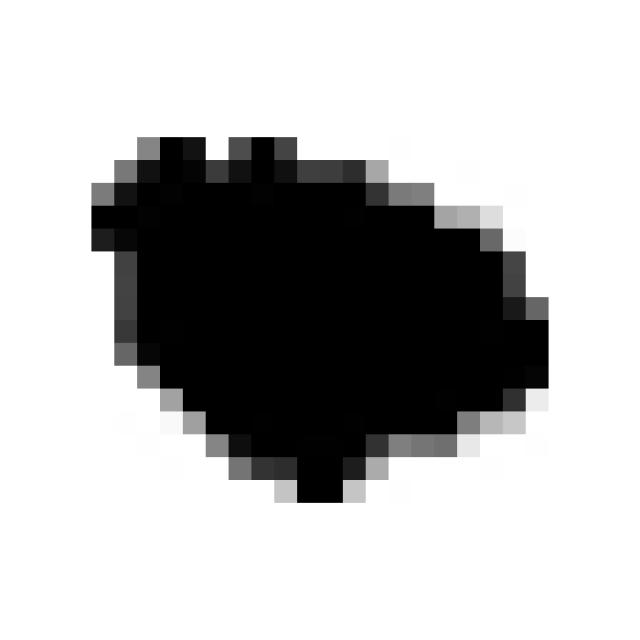0 -zero-: (69, 112, 563, 518)
